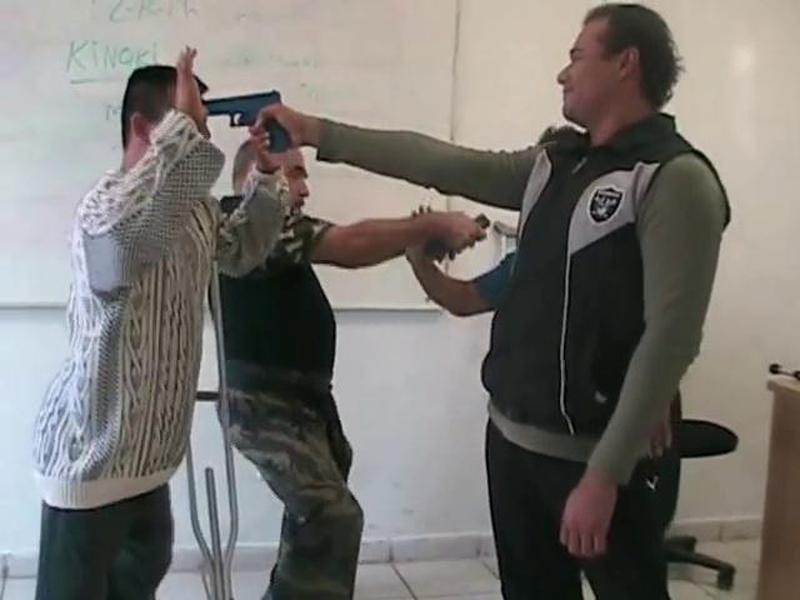Pistola: (195, 77, 306, 165)
